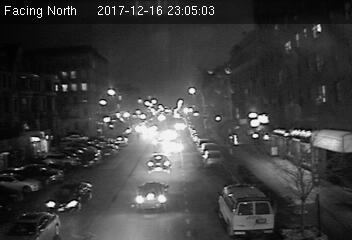car: (45, 182, 95, 214), (134, 180, 169, 212), (146, 153, 174, 175), (203, 149, 223, 165)
police: (216, 182, 276, 237)
